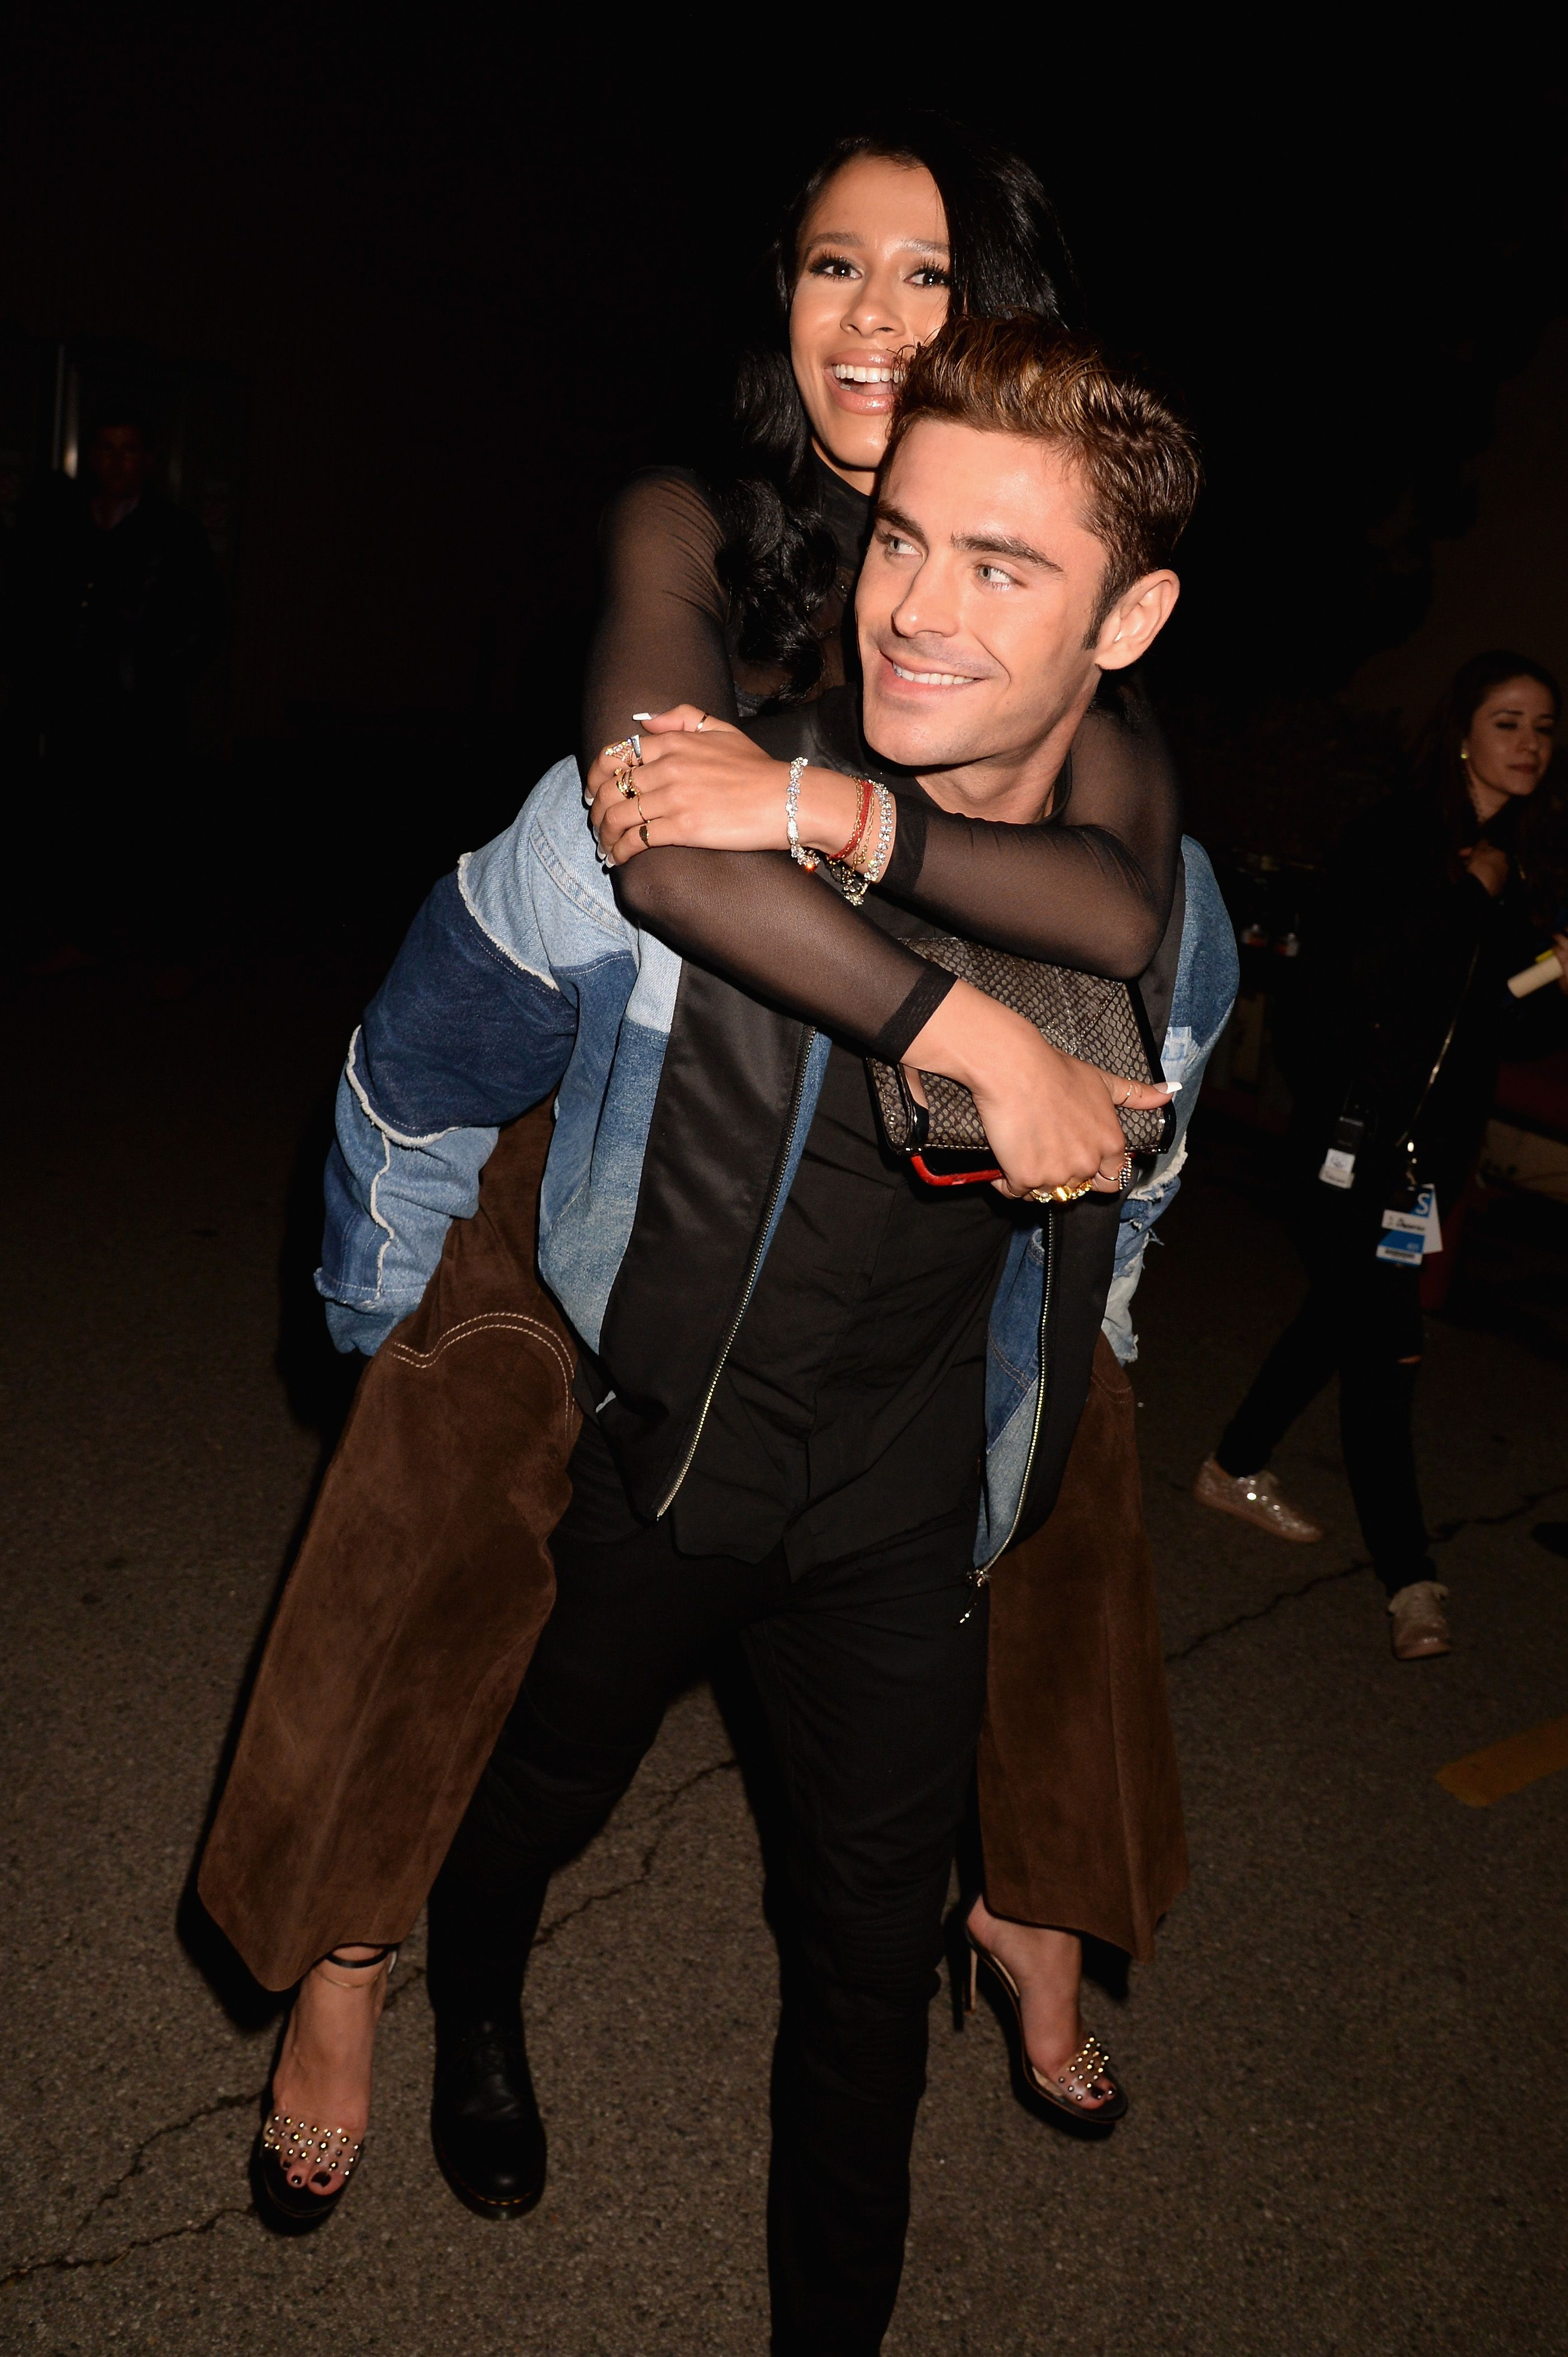Person: (444, 332, 1225, 2357), (1189, 642, 1568, 1663)
